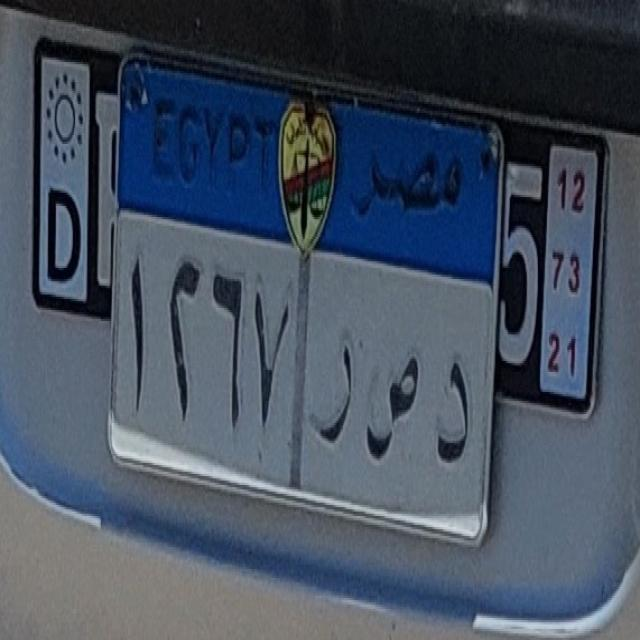1: (124, 246, 157, 428)
2: (158, 250, 208, 426)
6: (202, 255, 252, 443)
7: (244, 276, 297, 447)
R: (312, 315, 362, 467)
Saad: (358, 326, 430, 476)
daal: (423, 337, 481, 480)
